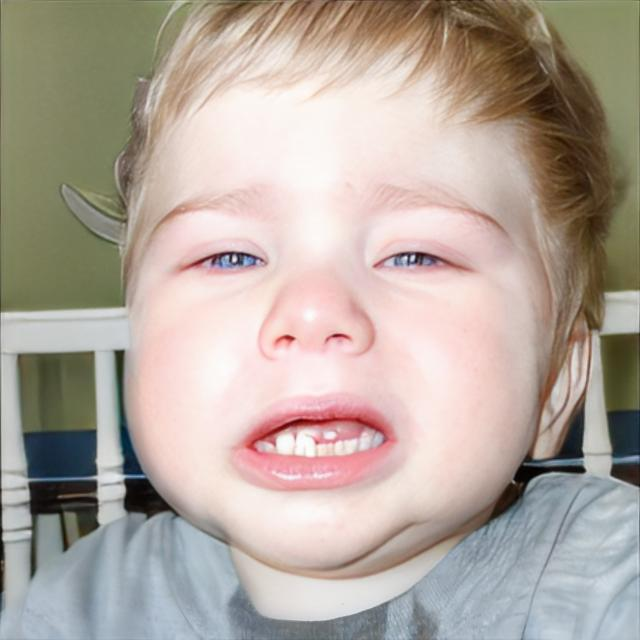sad: (121, 21, 537, 574)
